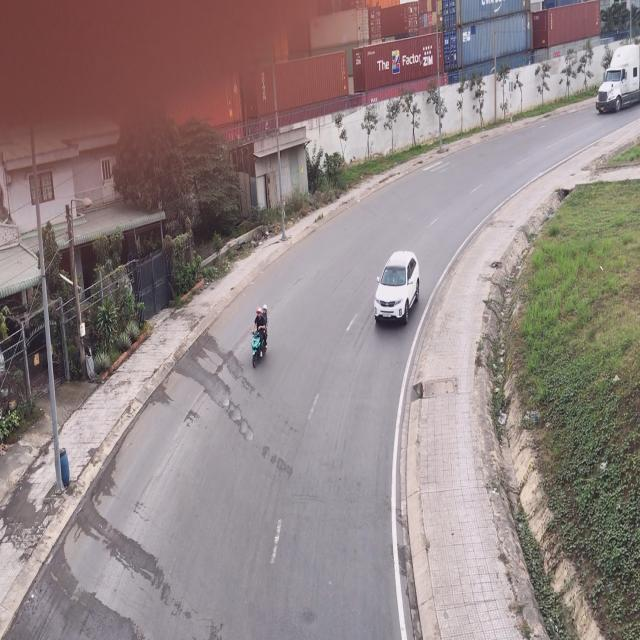car: (375, 250, 422, 328)
motorbike: (249, 306, 268, 370)
truck: (596, 42, 640, 114)
